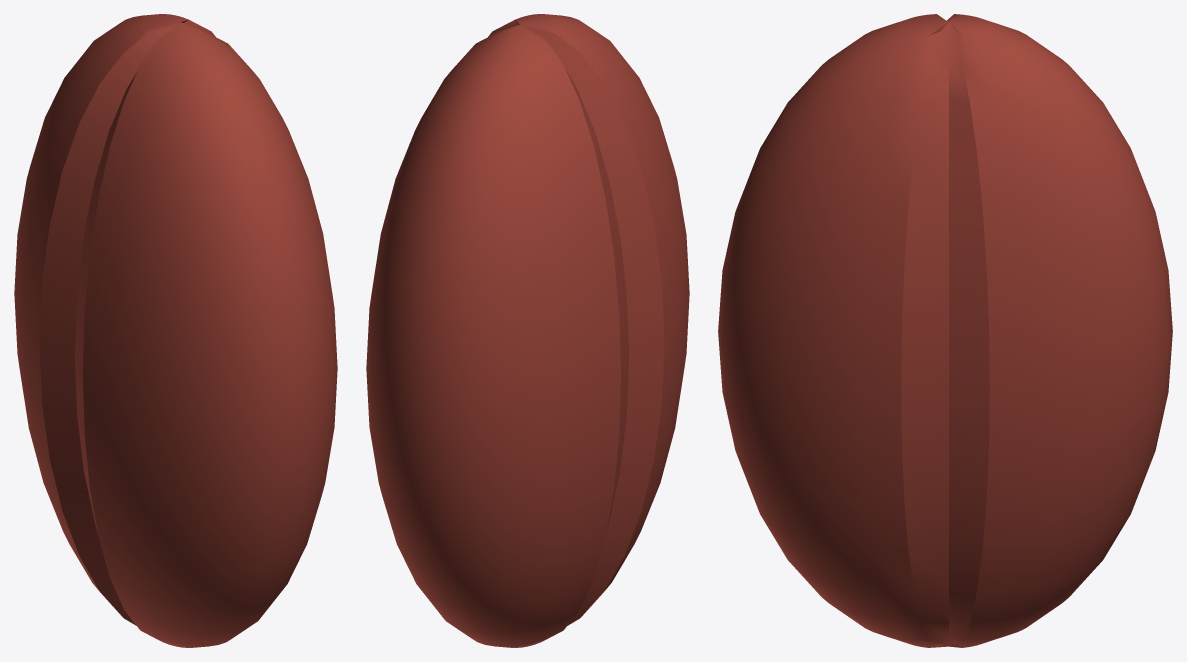
File: ziarnokawy.gltf
3 renders of one model, left to right at view 1: azimuth 30°, elevation 25°; view 2: azimuth 150°, elevation 25°; view 3: azimuth 270°, elevation 25°, orthographic. The views are drawn at different scales.
Visible parts, largest first — view 1: Sphere; view 2: Sphere; view 3: Sphere.
Part boxes in pixels (<box>): Sphere: <box>14,14,337,647</box>; Sphere: <box>366,14,689,647</box>; Sphere: <box>718,14,1172,647</box>.
Size of the model in its own units: 0.7857 by 2 by 1.32.
Materials: 1 (1 with a texture image).
